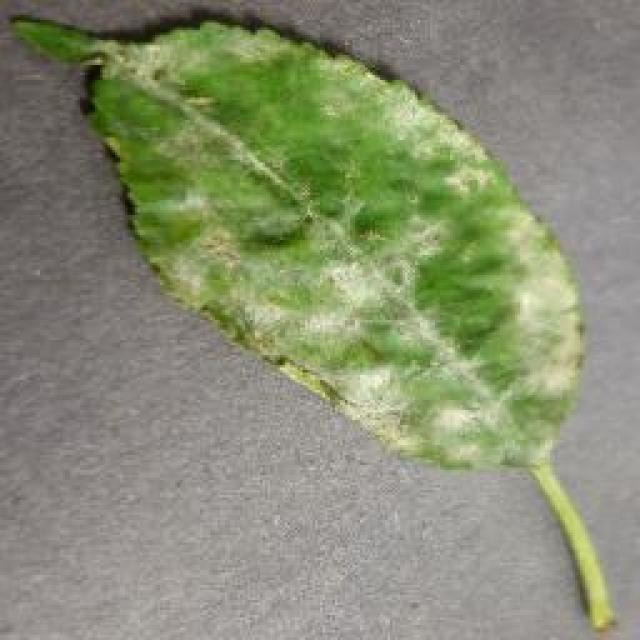Cherry___Powdery_mildew: (15, 2, 627, 638)
